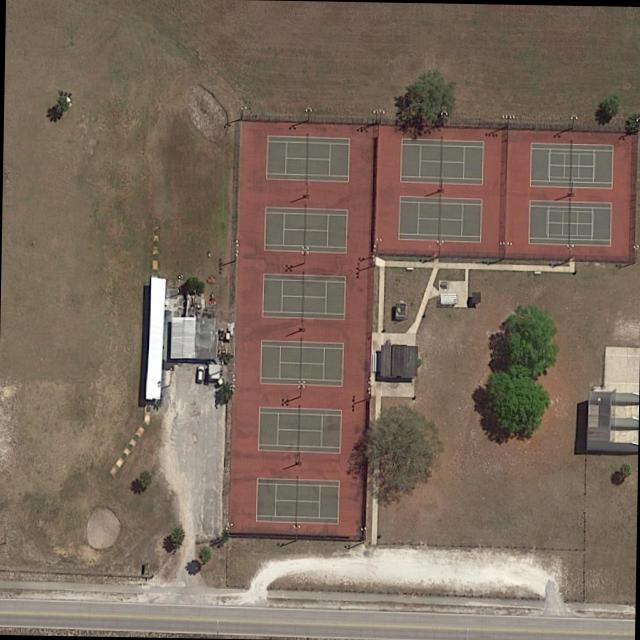small-vehicle: (196, 365, 205, 381)
